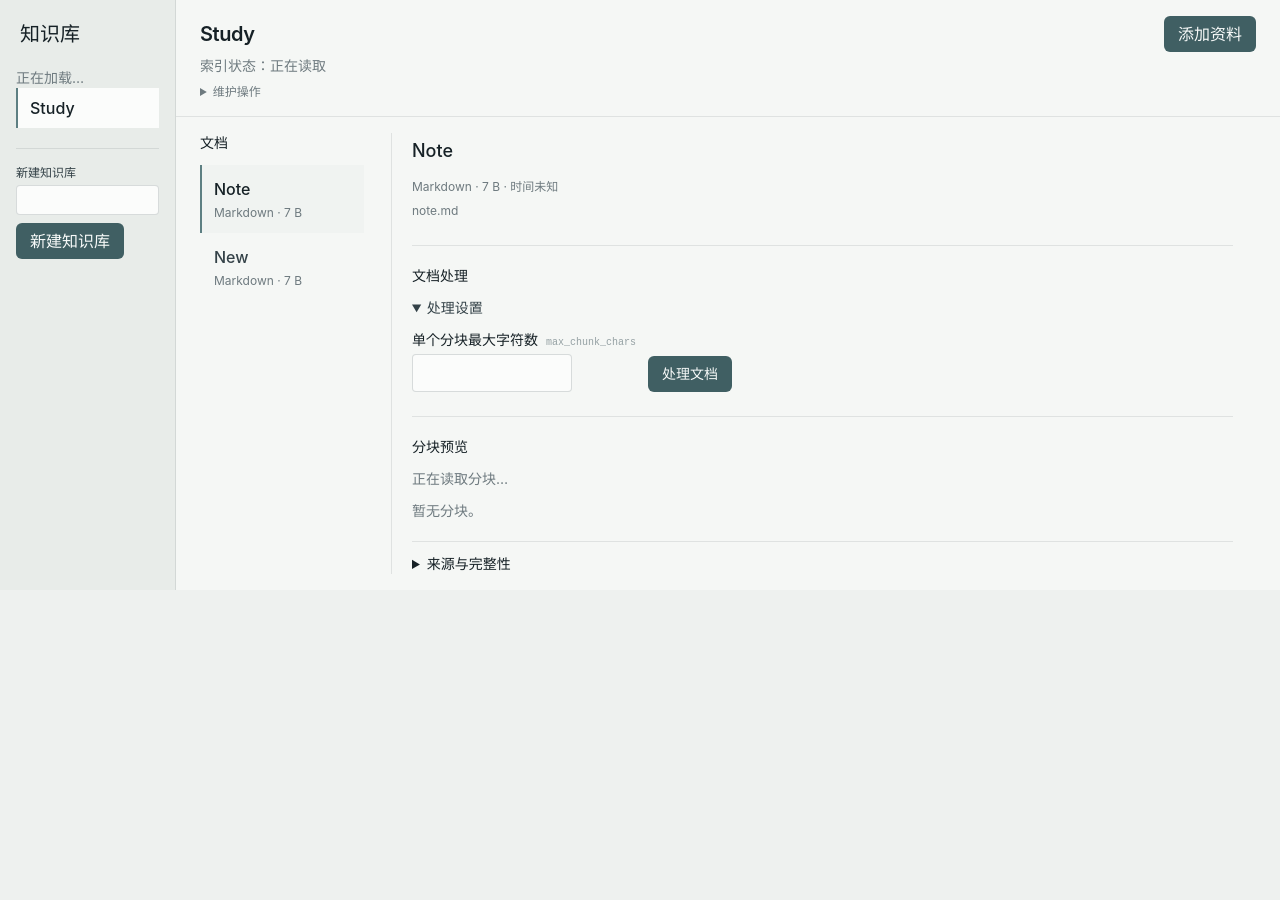
Test: KnowledgePage processing bridge › ignores a late chunk page from an old document selection
The width and height of the screenshot is (1280, 900).
Click the button "New Markdown · 7 B".
click(282, 267)  # box [200,233,364,301]
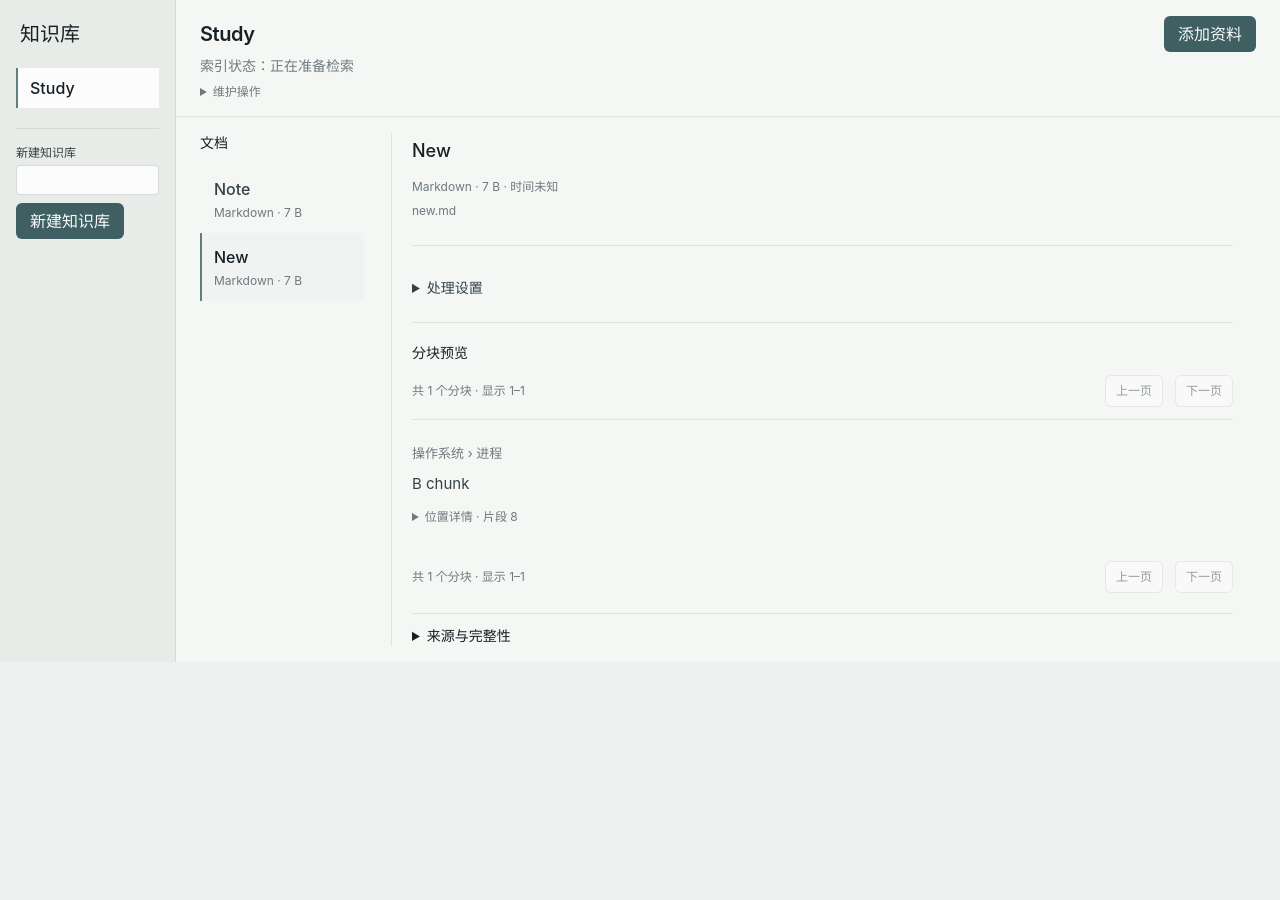
Expected: the text "B chunk" is shown, [412,474,469,493]
